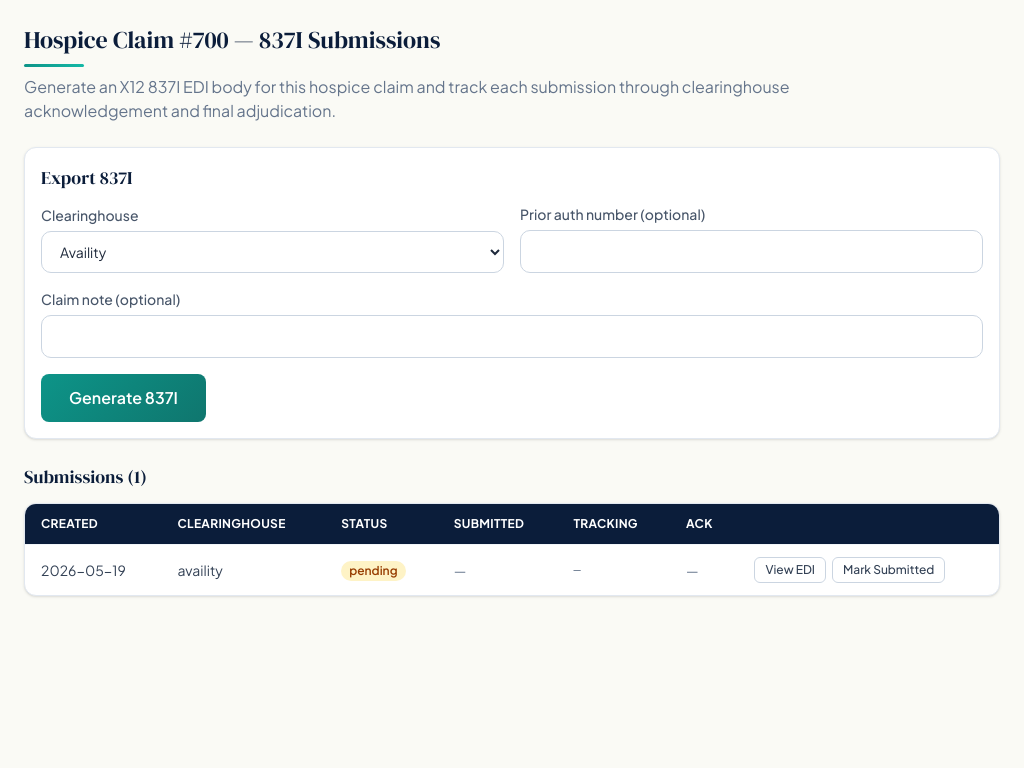
Scenario: HospiceClaimSubmissionsPage › opens detail panel and shows EDI text
Expected: the text "pending" is shown, x1=341 y1=561 x2=406 y2=581
Click the button "View EDI" at (790, 570), box x1=754 y1=557 x2=826 y2=583
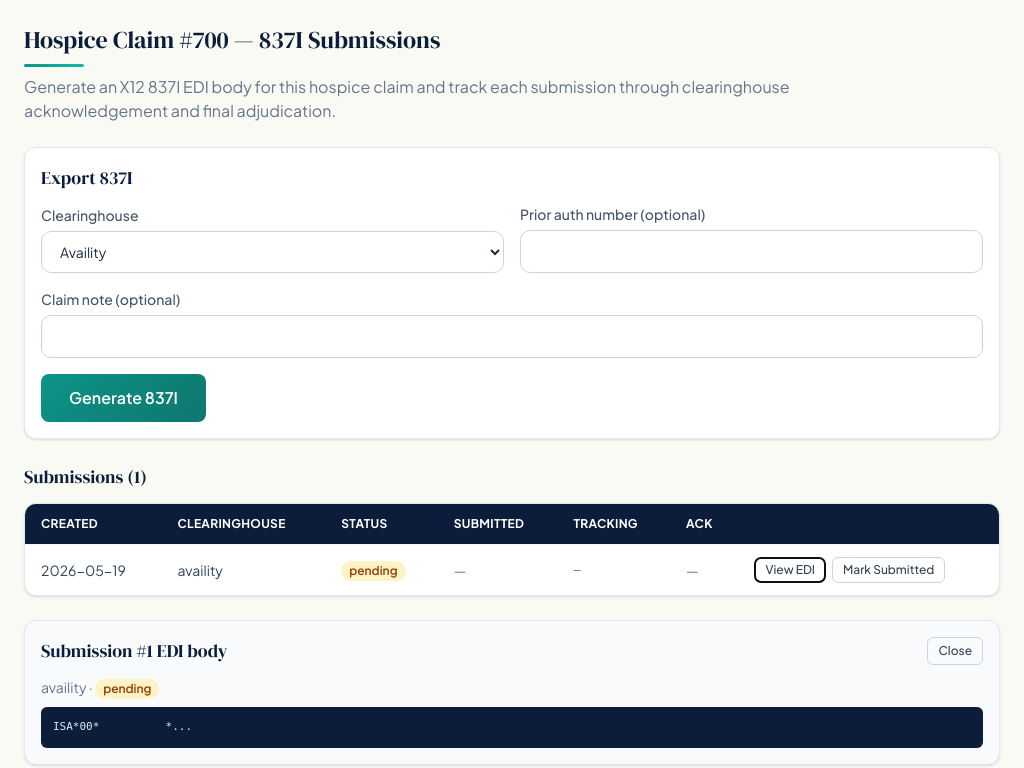
Expected: the heading "Submission #1 EDI body" is shown, x1=41 y1=637 x2=228 y2=665
